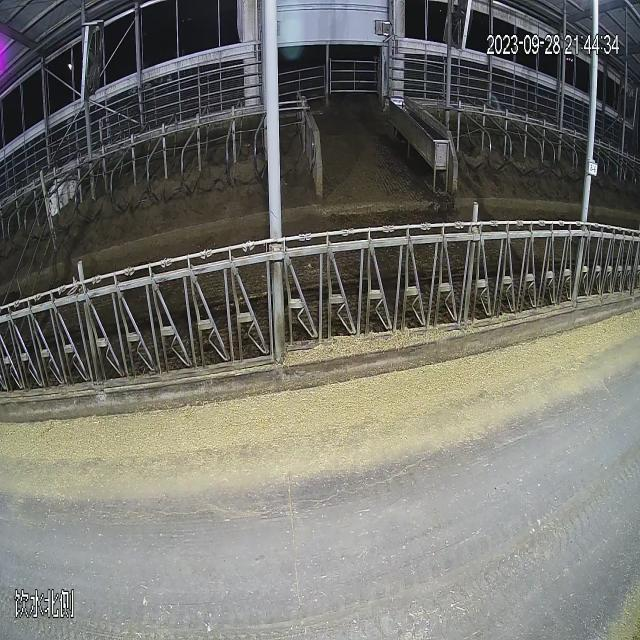lying down: (30, 146, 97, 248)
